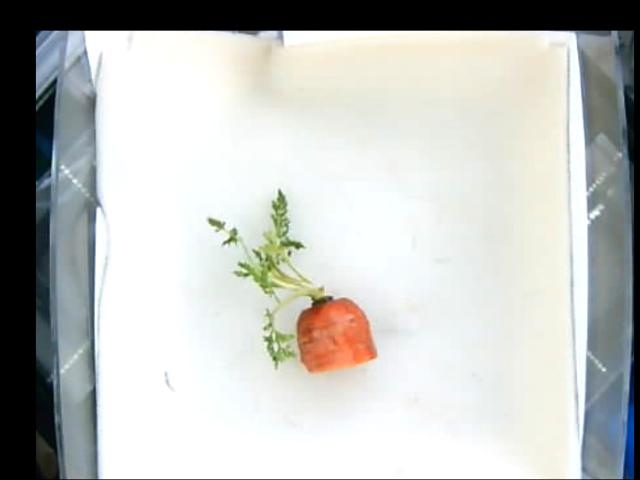Carrot: (206, 187, 376, 373)
